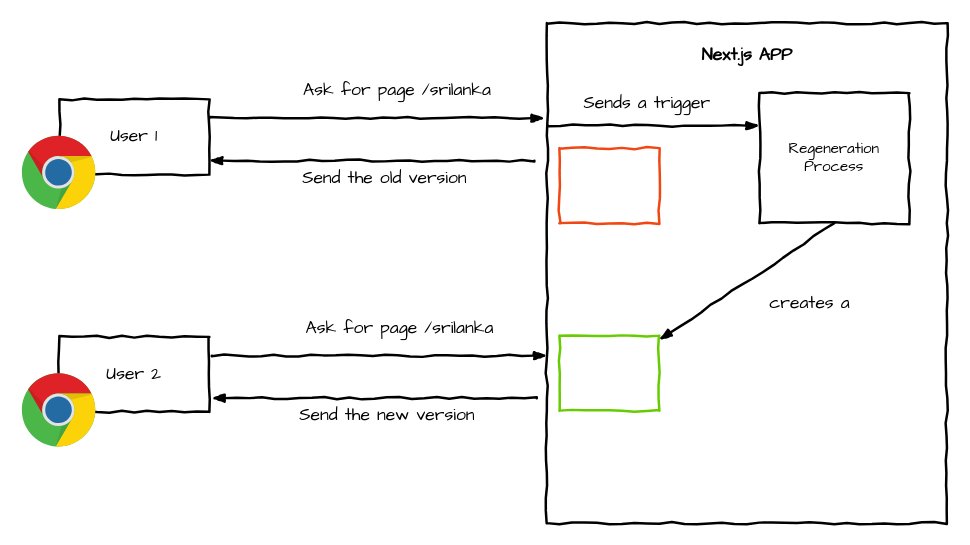
Some shapes in this 970 by 545 pixel diagram are drawn without their labels. Each missing label, with the centre of its shape:
"New Version /srilanka" goes at point 609,372.
"Old Version /srilanka" goes at point 609,185.
